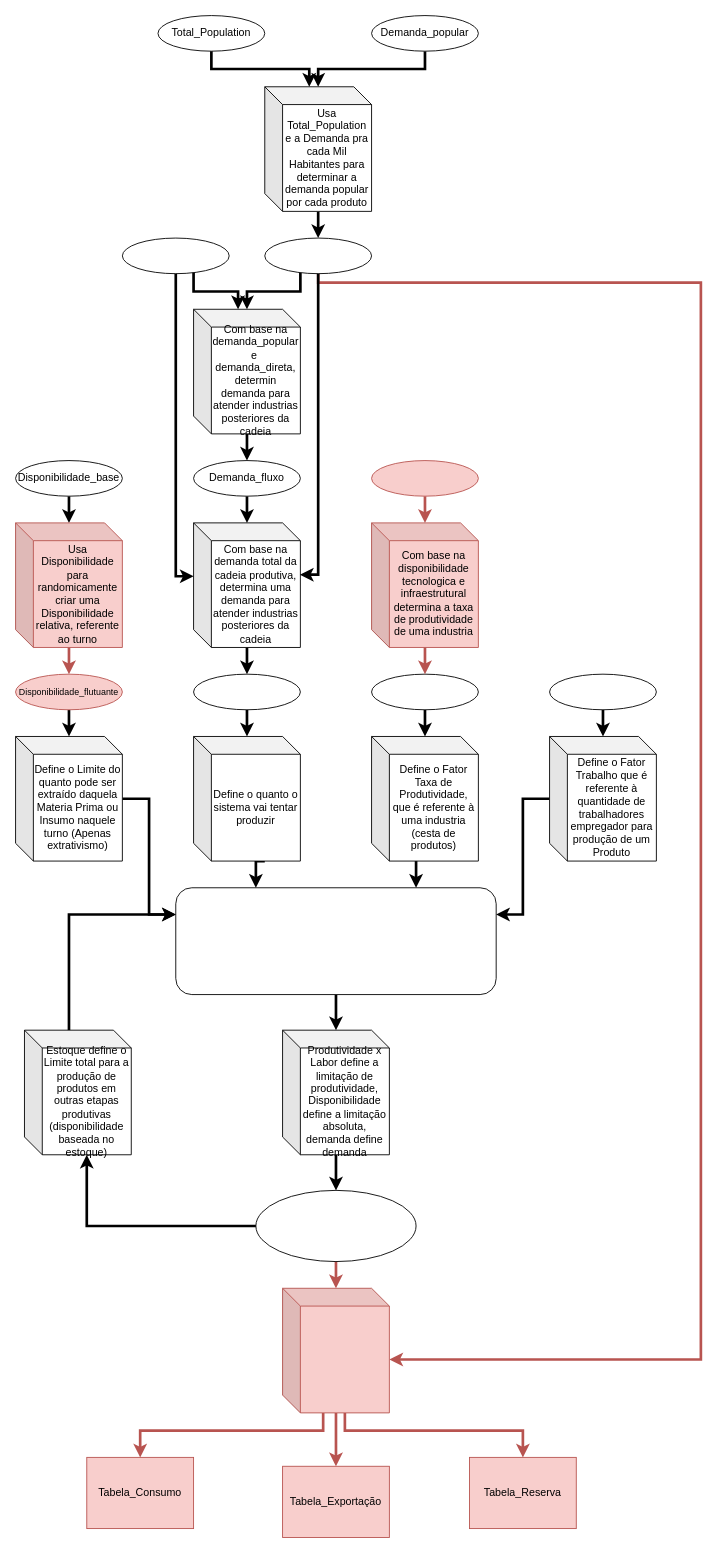
The diagram is 724 pixels wide and 1553 high, and some of its shapes have lost their labels. The shapes that lost their labels are listed below. From the top down, each one's centre as x and y in pixels, then its label:
(x=175, y=255): Demanda_direta
(x=318, y=255): Demanda_popular_total
(x=424, y=478): Planta_industrial
(x=246, y=691): Demanda_total
(x=424, y=691): Produtividade
(x=602, y=691): Labor
(x=335, y=941): Produção
(x=335, y=1225): Estoque_fluxo
(x=335, y=1350): Destinação Consumo / Exportação / Reserva
